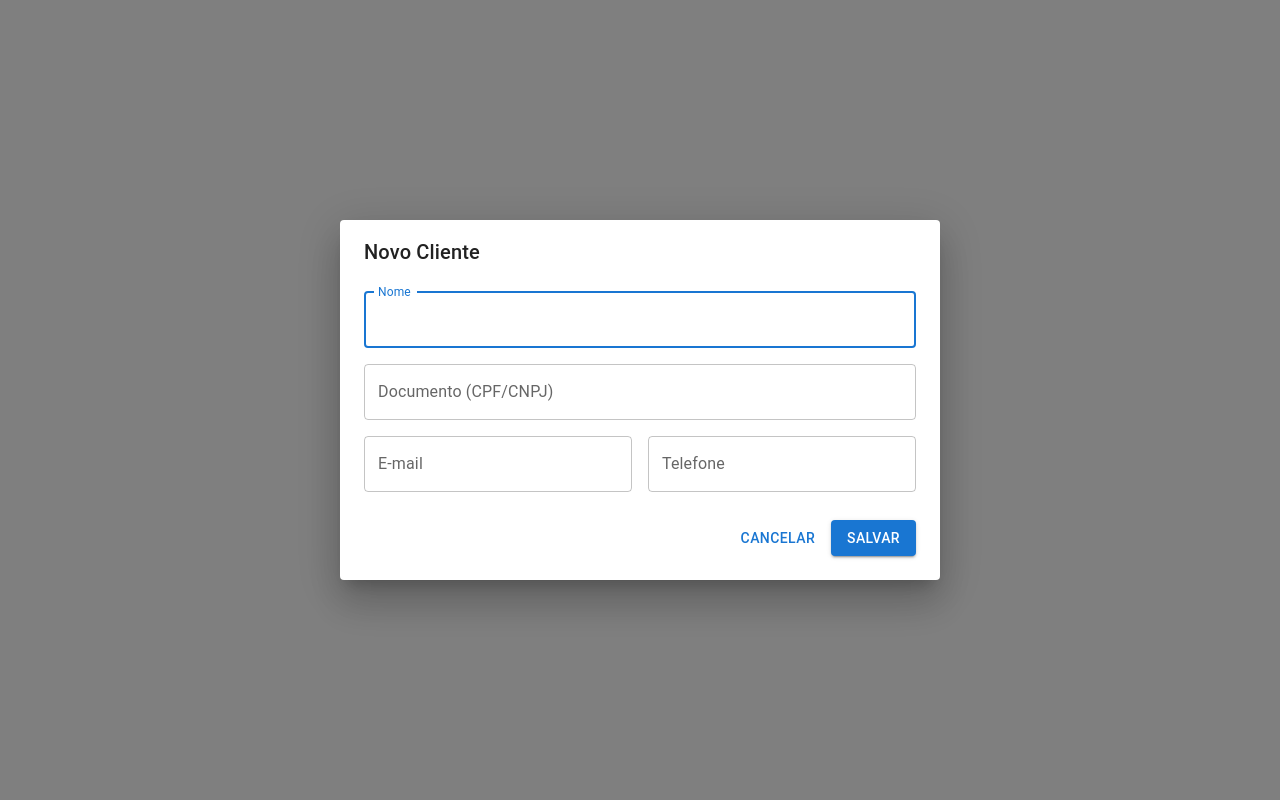
Test case: CustomerFormDialog › deve exibir mensagem de validação, quando o e-mail tem formato inválido
The image size is (1280, 800).
Type "Cliente Teste" into the field labelled "Nome" at (640, 320), box [364,292,916,348]
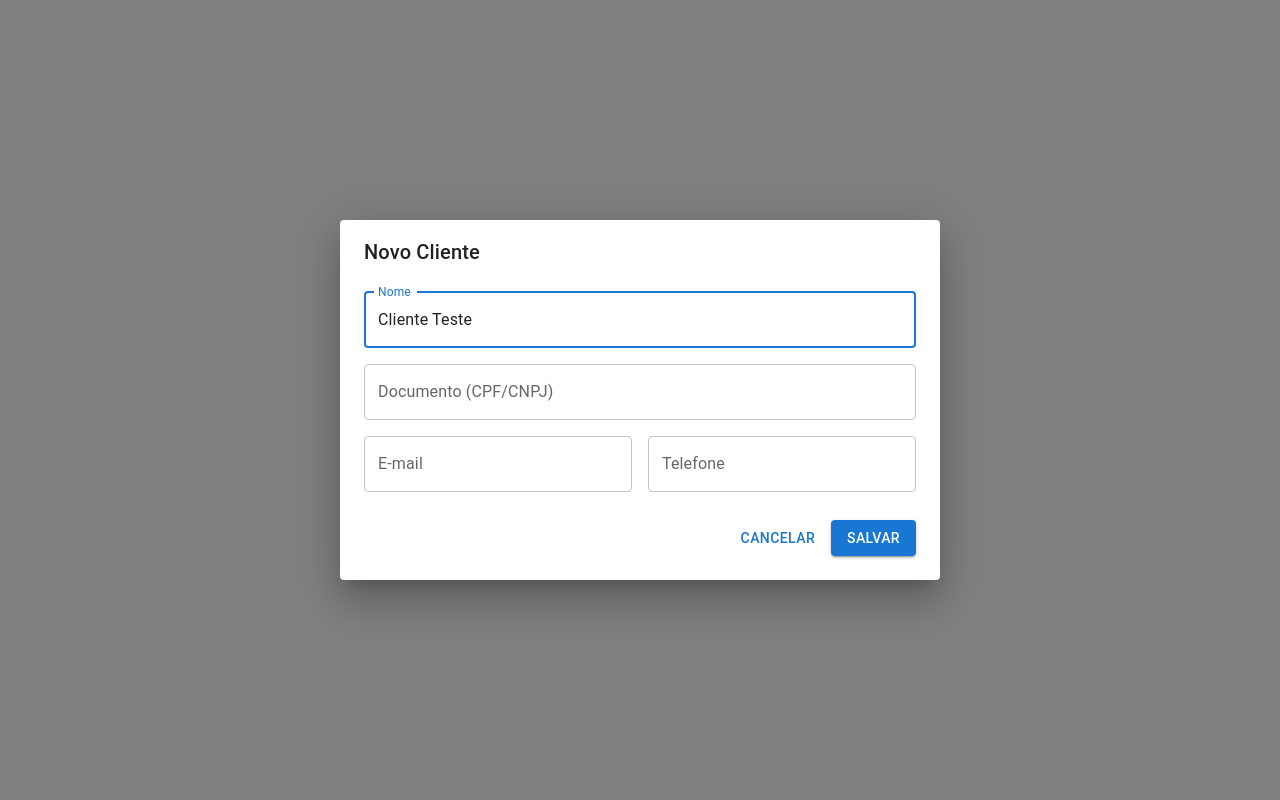
Type "12345678900" into the field labelled "Documento (CPF/CNPJ)" at (640, 392), box [364,364,916,420]
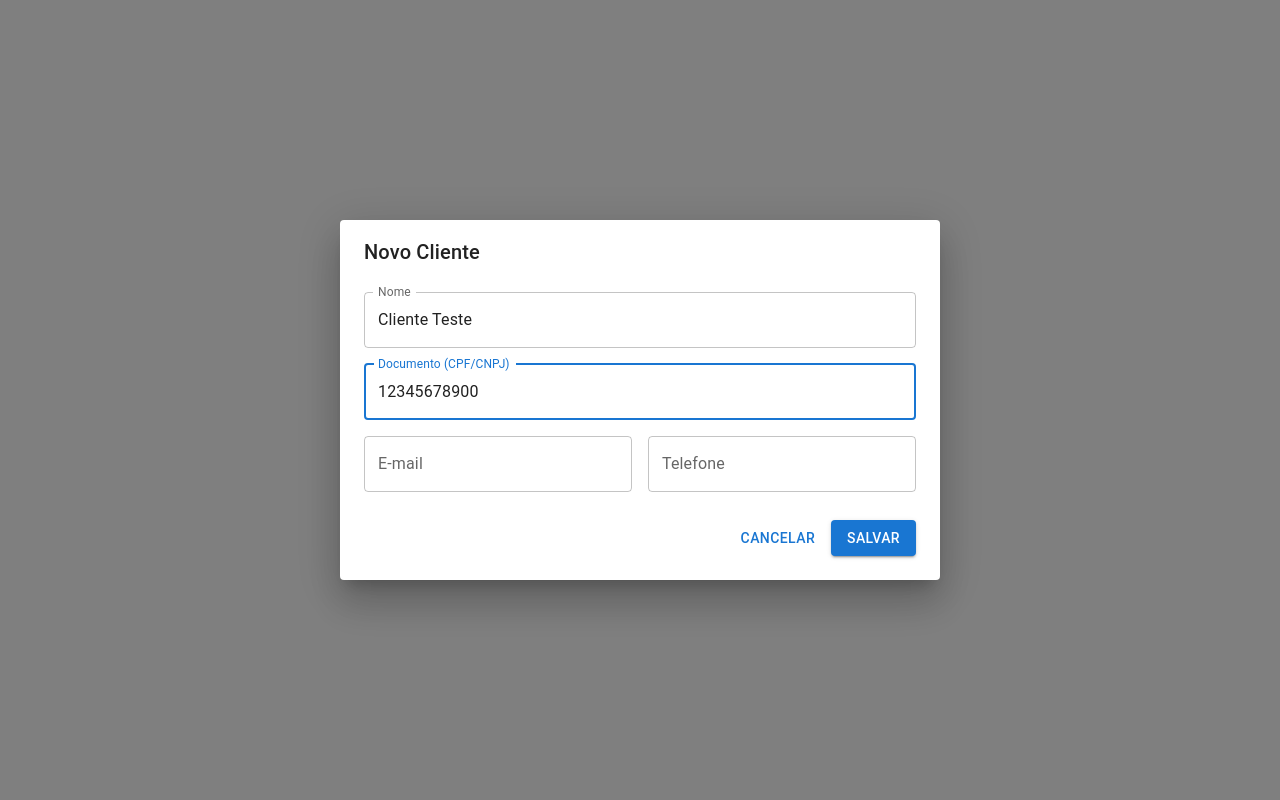
Type "email-invalido" into the field labelled "E-mail" at (498, 464), box [364,436,632,492]
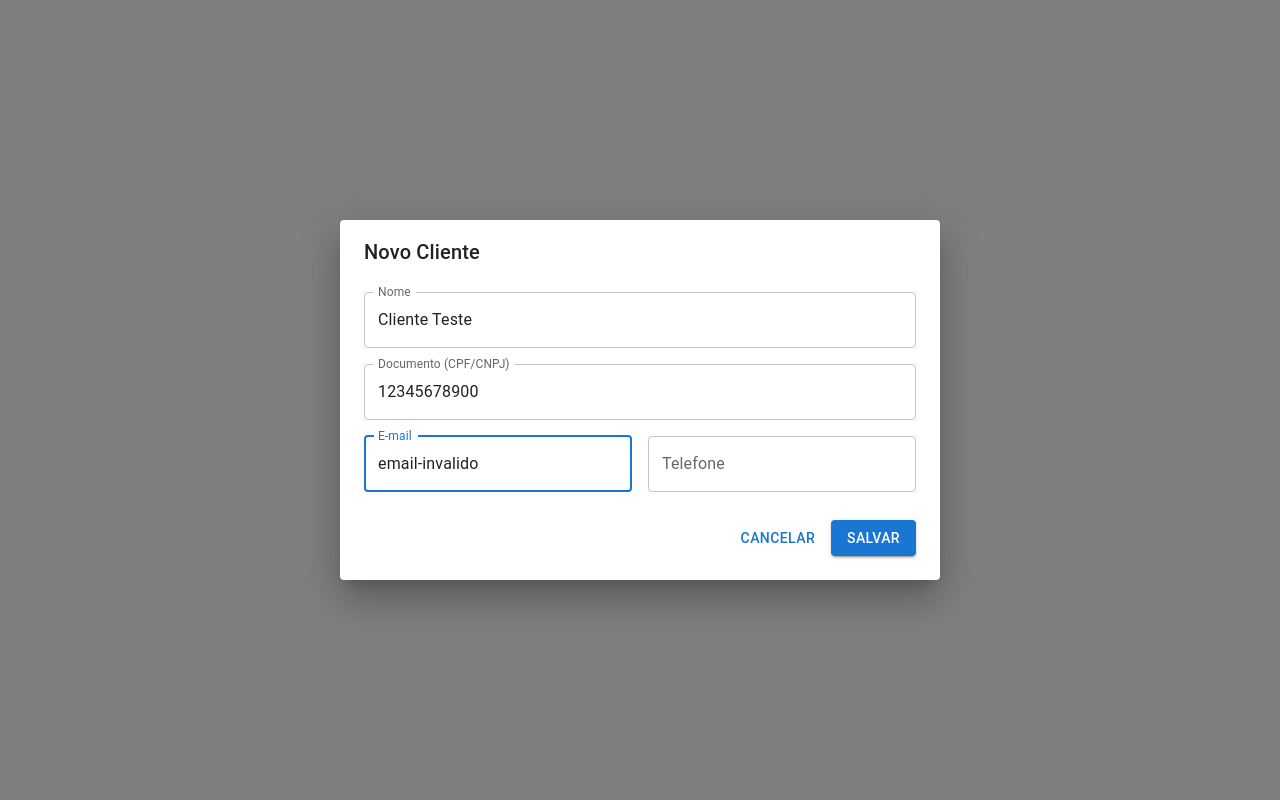
Click the button "Salvar" at (874, 538), box [831,520,916,556]
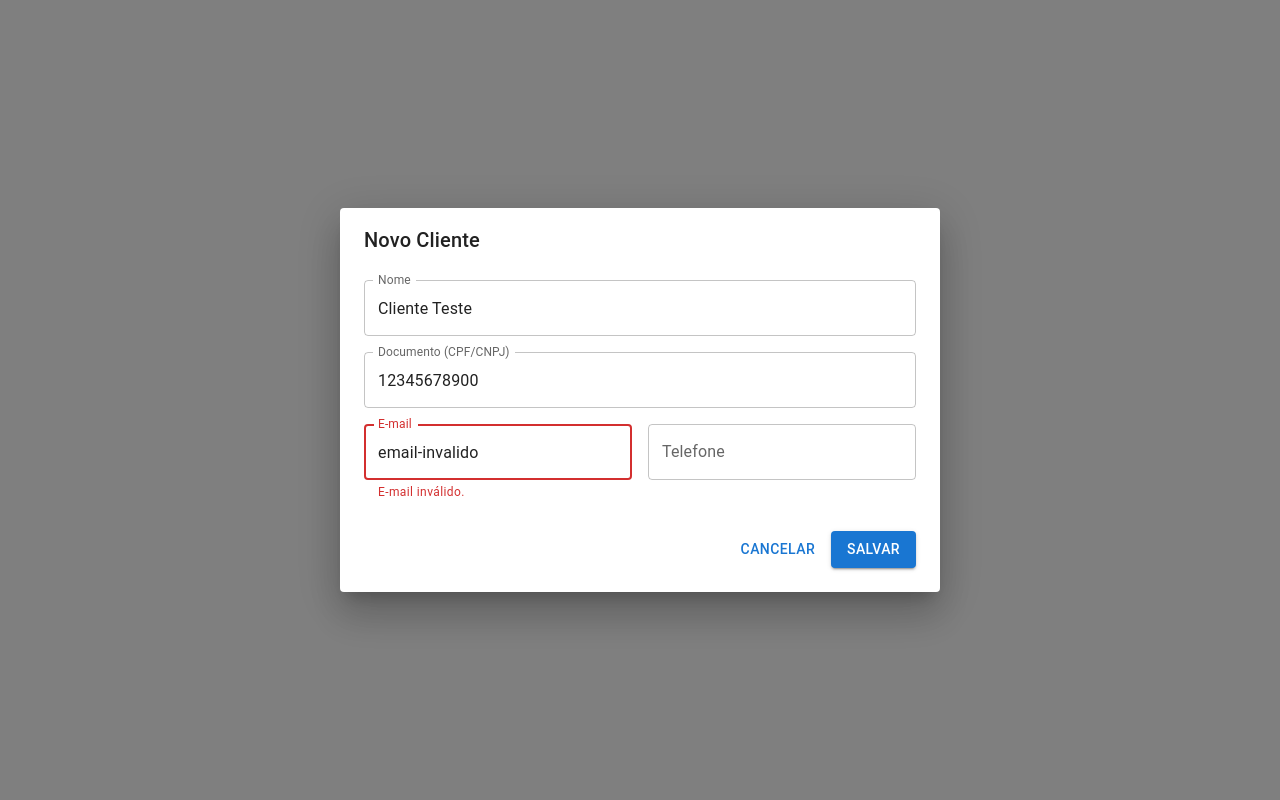
Result: the text "E-mail inválido." is shown at [378,485,465,499]
